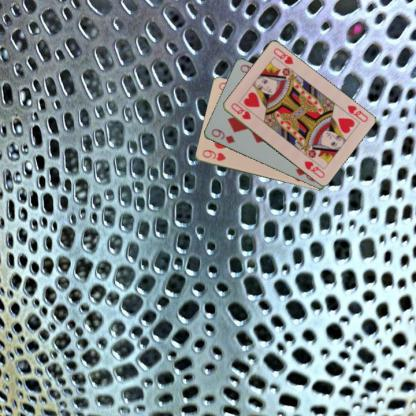9d: (208, 126, 236, 144)
9h: (199, 148, 227, 162)
Qh: (344, 102, 368, 124), (228, 100, 252, 121)
